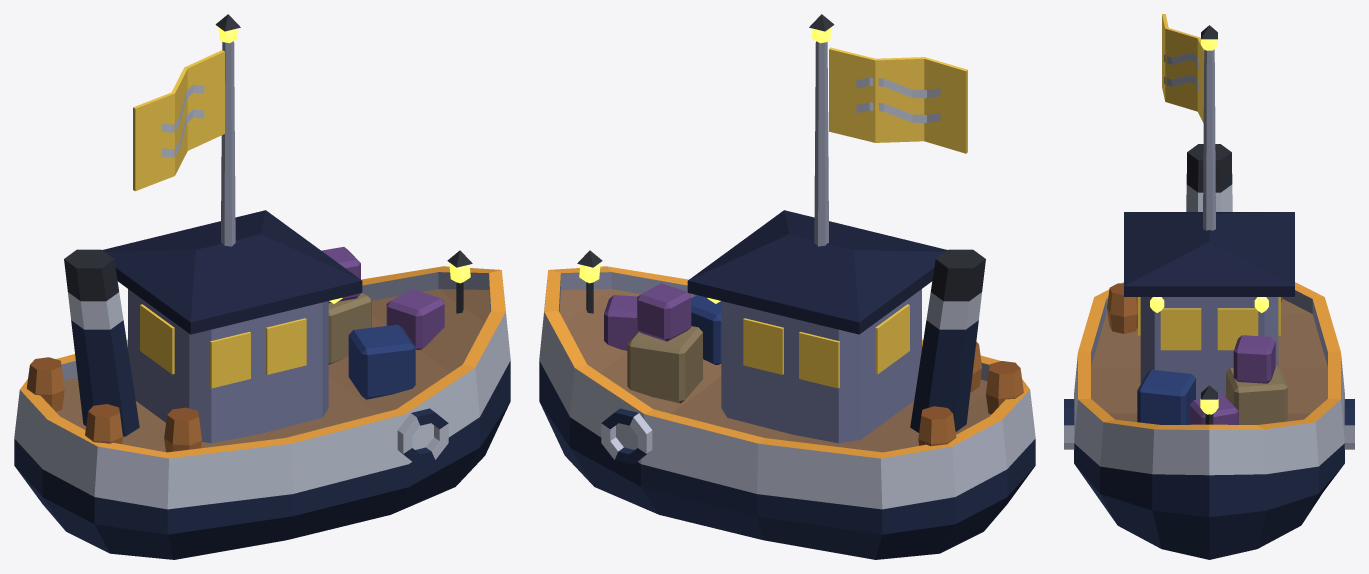
Rendered from low-poly-noche.glb.
3 views of the same model, side by side, from view 1: azimuth 30°, elevation 25°; view 2: azimuth 150°, elevation 25°; view 3: azimuth 270°, elevation 25° (orthographic). The views are drawn at different scales.
Parts seen in each view (by area): view 1: hull, roof, cabin, crates, funnel, flag, glass, barrels, mast, life_rings, flag_symbol, lanterns; view 2: hull, roof, cabin, flag, crates, funnel, glass, barrels, mast, life_rings, flag_symbol, lanterns; view 3: hull, roof, crates, cabin, glass, flag, funnel, mast, barrels, life_rings, lanterns, flag_symbol (+1 smaller).
Part boxes in pixels (box(x1,y1,x2,y2)): hull: box(14, 266, 510, 559); roof: box(102, 210, 362, 334); cabin: box(128, 289, 328, 443); crates: box(321, 247, 444, 399); funnel: box(64, 249, 139, 436); flag: box(133, 50, 224, 191); glass: box(140, 304, 306, 388); barrels: box(27, 357, 201, 452); mast: box(221, 41, 235, 246); life_rings: box(397, 408, 448, 464); flag_symbol: box(161, 84, 204, 157); lanterns: box(218, 27, 470, 303); hull: box(539, 266, 1035, 559); roof: box(687, 210, 947, 334); cabin: box(721, 289, 921, 443); flag: box(829, 47, 967, 153); crates: box(604, 283, 721, 403); funnel: box(910, 249, 985, 432); glass: box(743, 304, 909, 388); barrels: box(918, 342, 1023, 446); mast: box(814, 41, 828, 246); life_rings: box(601, 408, 652, 464); flag_symbol: box(856, 77, 940, 123); lanterns: box(579, 27, 831, 303); hull: box(1074, 282, 1344, 559); roof: box(1124, 212, 1294, 296); crates: box(1137, 335, 1287, 424); cabin: box(1140, 297, 1278, 399); glass: box(1138, 297, 1280, 350); flag: box(1162, 14, 1204, 122); funnel: box(1186, 144, 1232, 211); mast: box(1203, 49, 1215, 230); barrels: box(1107, 283, 1282, 333); life_rings: box(1064, 399, 1354, 449); lanterns: box(1150, 39, 1268, 414); flag_symbol: box(1163, 46, 1199, 93).
Bounding box in the file's own units: 2 × 1.97 × 1.22.
